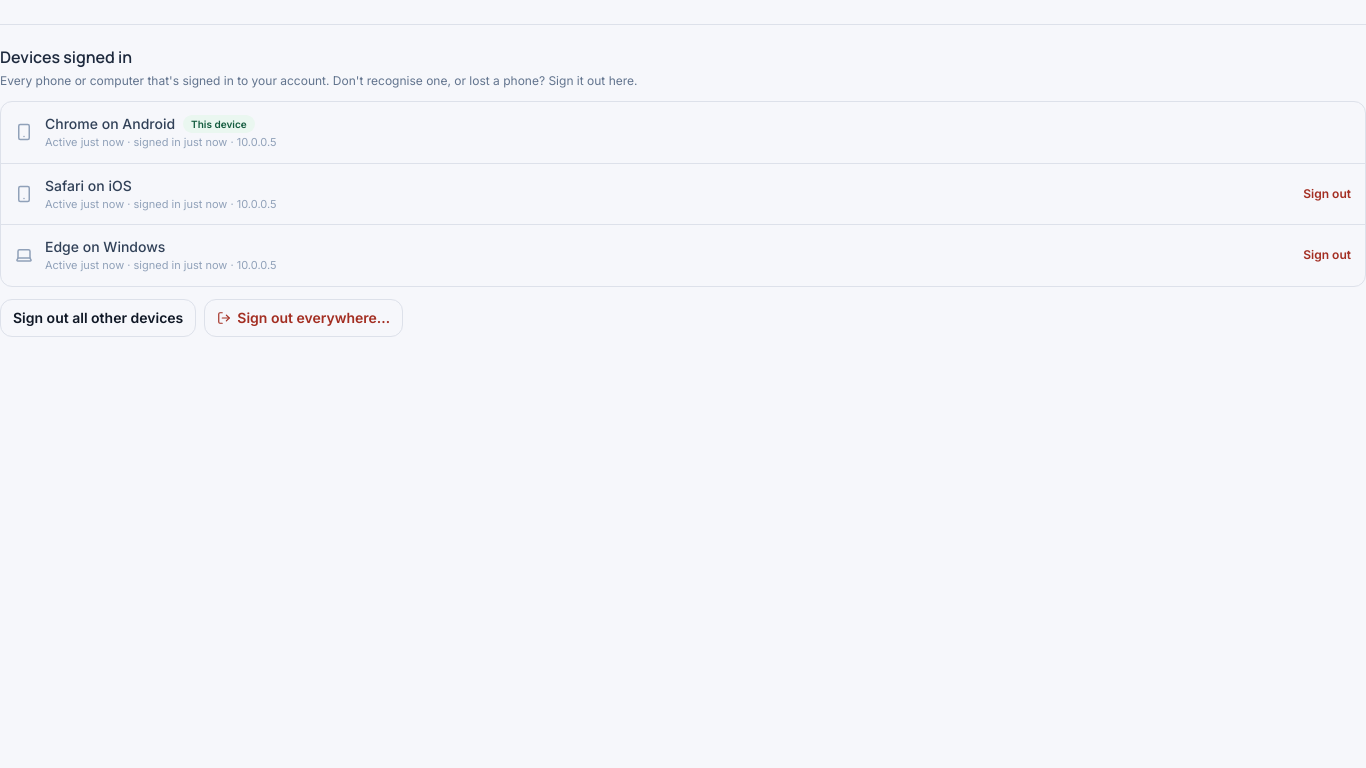
Test: DevicesCard — where you are signed in › "sign out everywhere" asks first, explains the push consequence, and only then does it
Later steps or results of the test are not shown.
Click the button "Sign out everywhere…": x=304, y=318 left=204, top=298, right=403, bottom=336
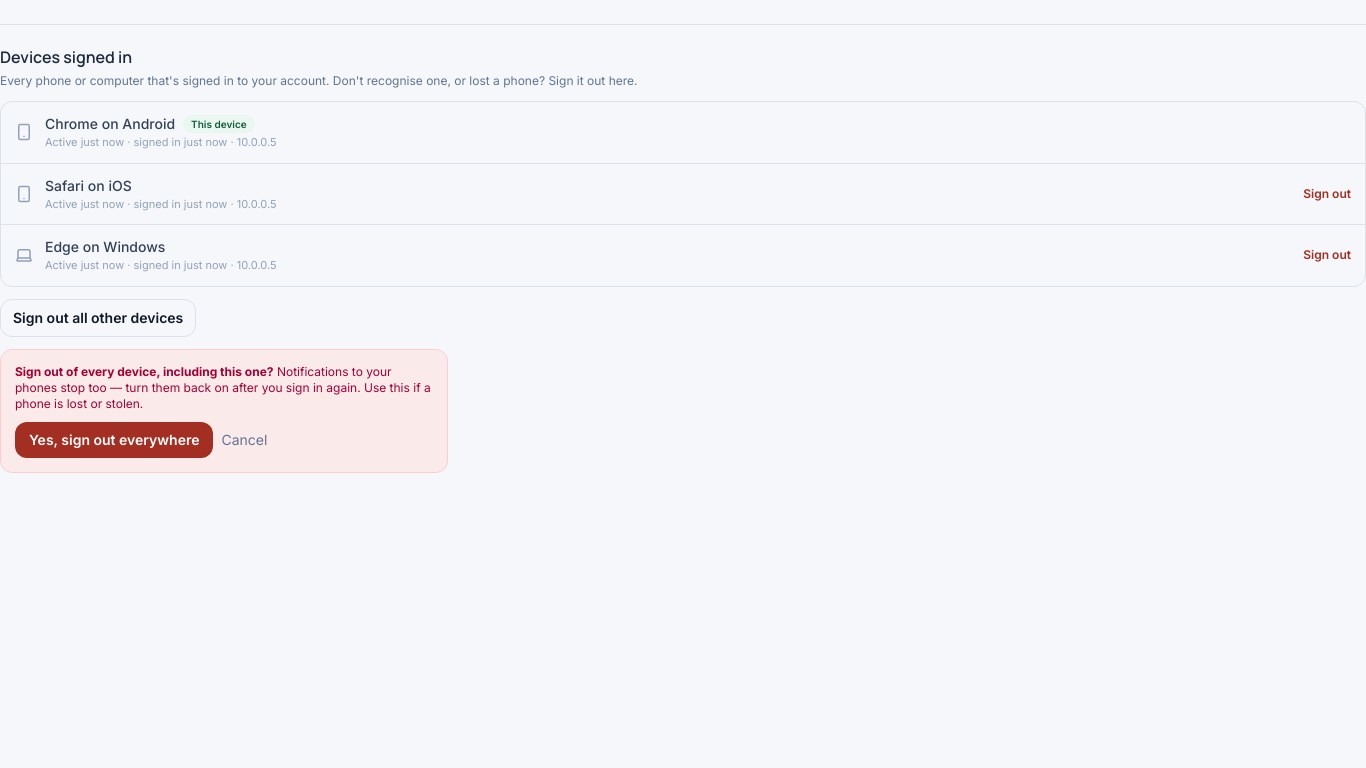
Expected: the dialog named "confirm sign out everywhere" shows "Notifications to your phones stop", left=15, top=364, right=431, bottom=410
